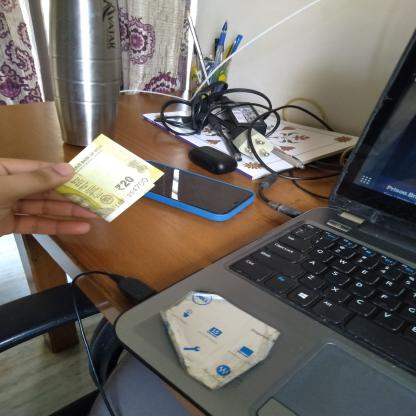New20Front: (62, 136, 152, 219)
